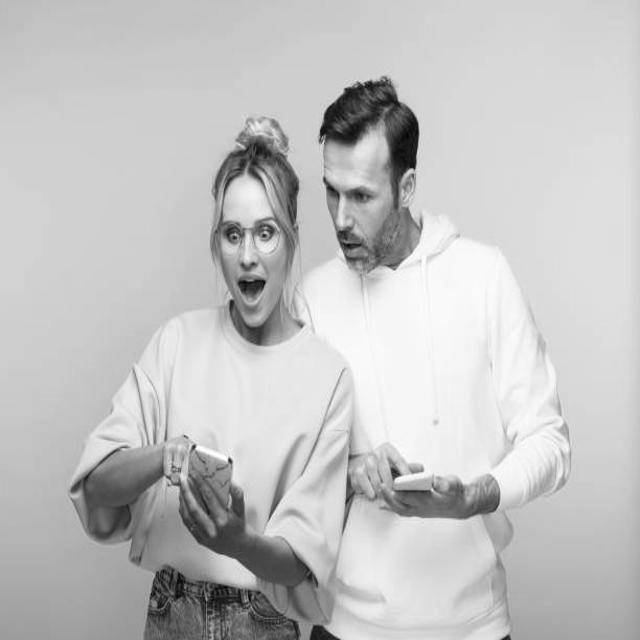Surprised: (323, 140, 405, 276), (220, 175, 286, 326)
